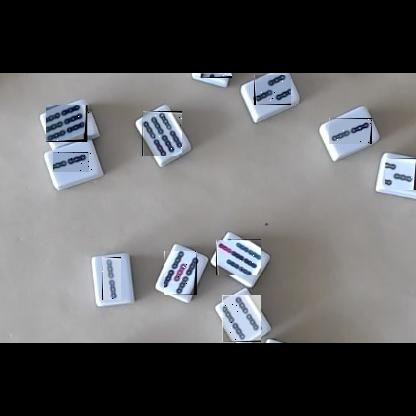2s: (329, 118, 372, 144), (102, 257, 121, 300), (54, 152, 93, 172)
3s: (254, 75, 291, 105), (385, 158, 416, 190)
4s: (222, 295, 261, 342)
5s: (164, 251, 197, 295)
6s: (142, 111, 182, 156), (47, 105, 92, 142)
7s: (216, 239, 261, 275)
9s: (200, 73, 232, 78)
